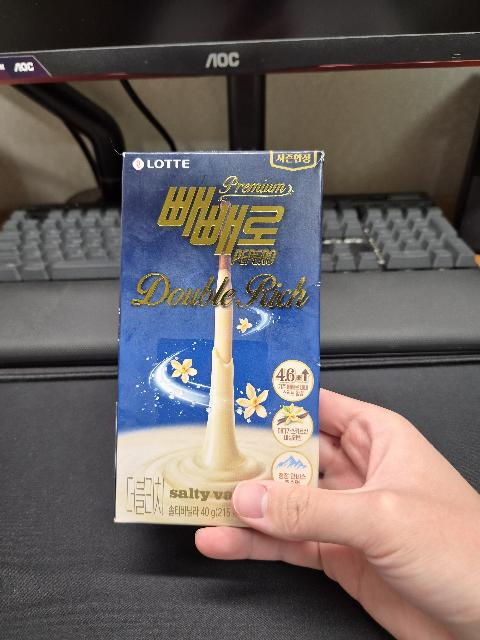pepero: (113, 150, 325, 527)
